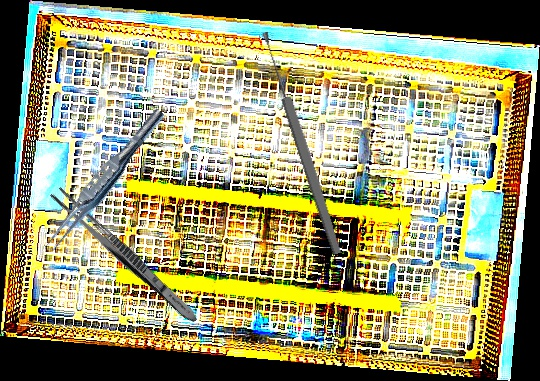Dressing Forceps: (47, 185, 203, 327)
Surgical Spoon: (258, 30, 345, 256)
Tissue Forceps: (41, 103, 169, 257)
